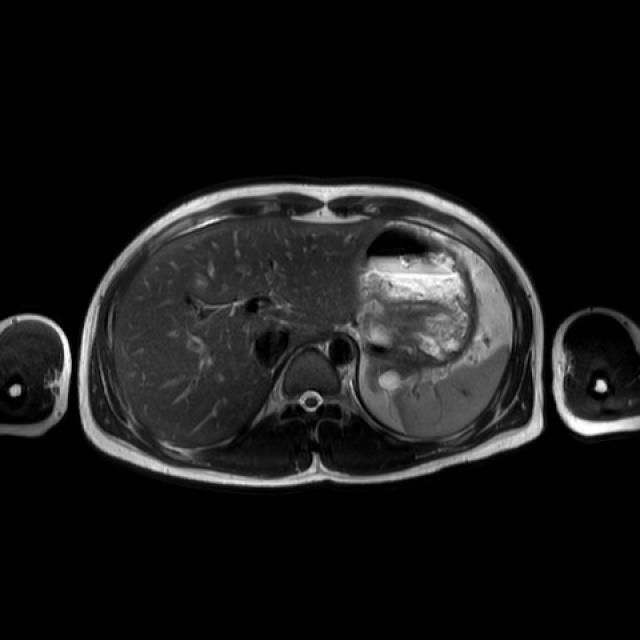Sol: (378, 368, 402, 392)
